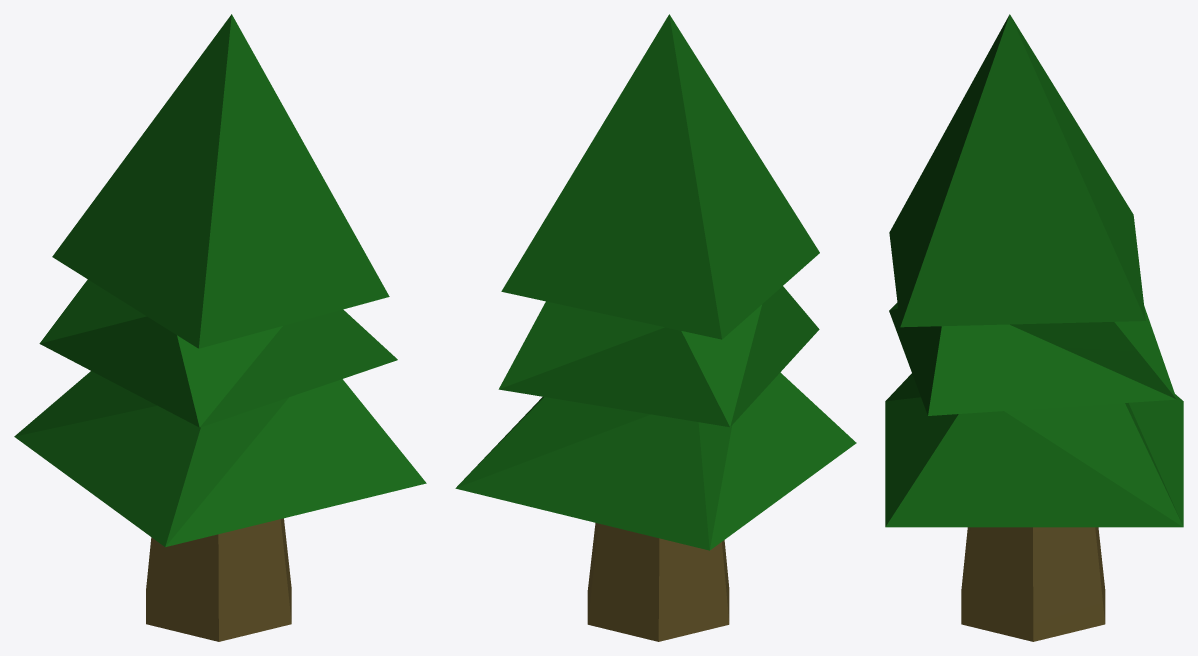
File: Vegetation_Tree_Pine_Summer_01.fbx
3 renders of one model, left to right at view 1: azimuth 30°, elevation 25°; view 2: azimuth 150°, elevation 25°; view 3: azimuth 270°, elevation 25°, orthographic. The views are drawn at different scales.
Visible parts, largest first — view 1: Vegetation_Tree_Pine_Summer_01; view 2: Vegetation_Tree_Pine_Summer_01; view 3: Vegetation_Tree_Pine_Summer_01.
Part boxes in pixels (box(x1,y1,x2,y2)): Vegetation_Tree_Pine_Summer_01: box(14, 14, 426, 641); Vegetation_Tree_Pine_Summer_01: box(455, 14, 856, 641); Vegetation_Tree_Pine_Summer_01: box(885, 14, 1183, 641).
Bounding box in the file's own units: 77.55 × 170 × 77.55.
